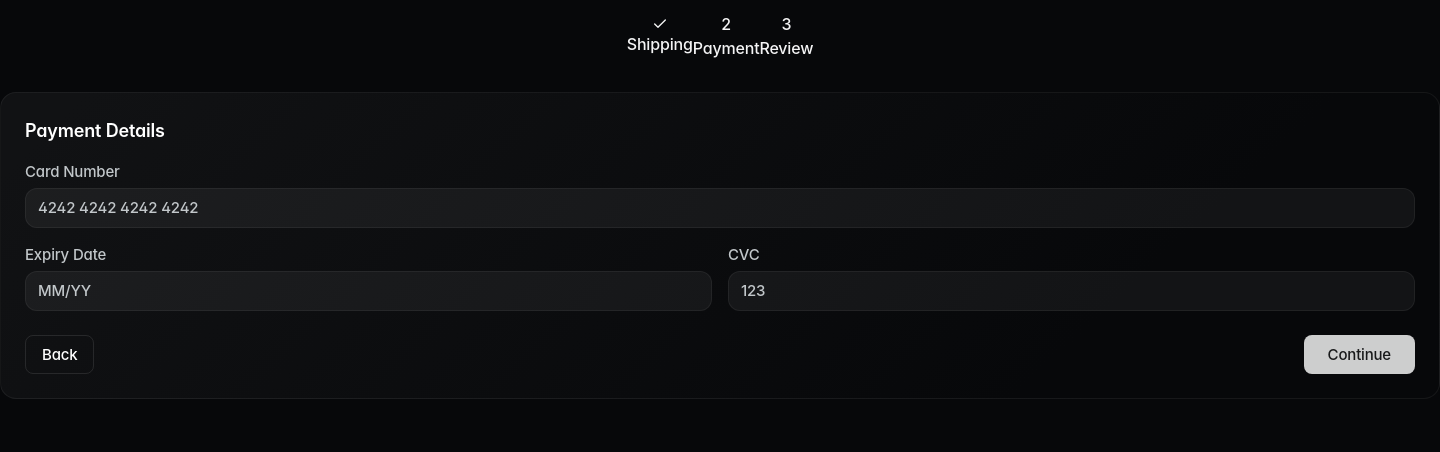
Scenario: CheckoutForm › step 3 - review › displays entered payment data on review
In the field labelled "Card Number": (720, 208) [25,188,1415,228], type "4242424242424242"
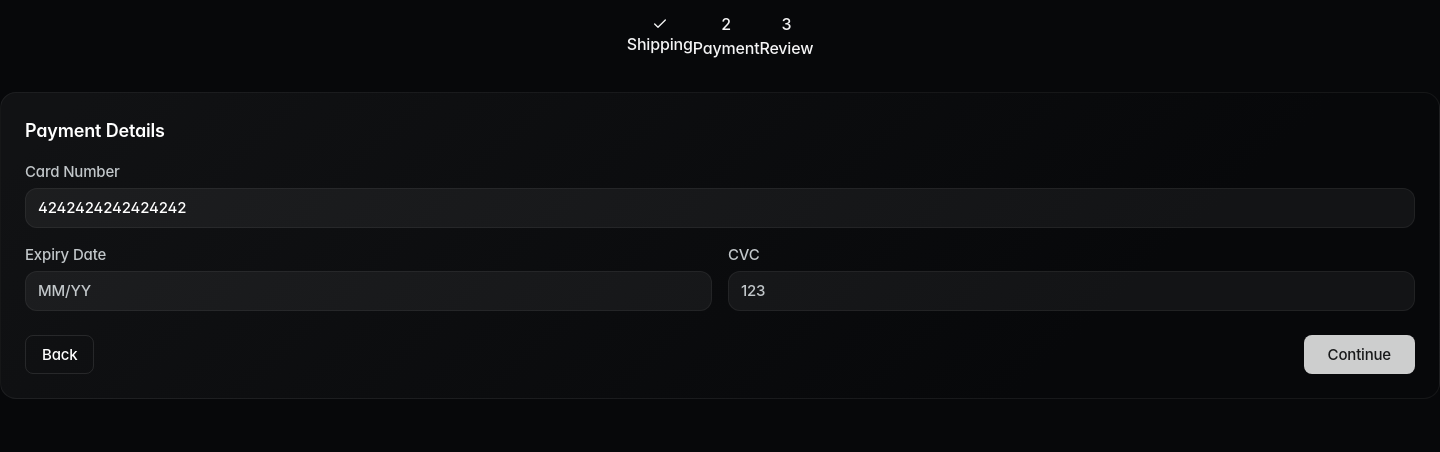
In the field labelled "Expiry Date": (368, 291) [25,271,712,311], type "12/25"
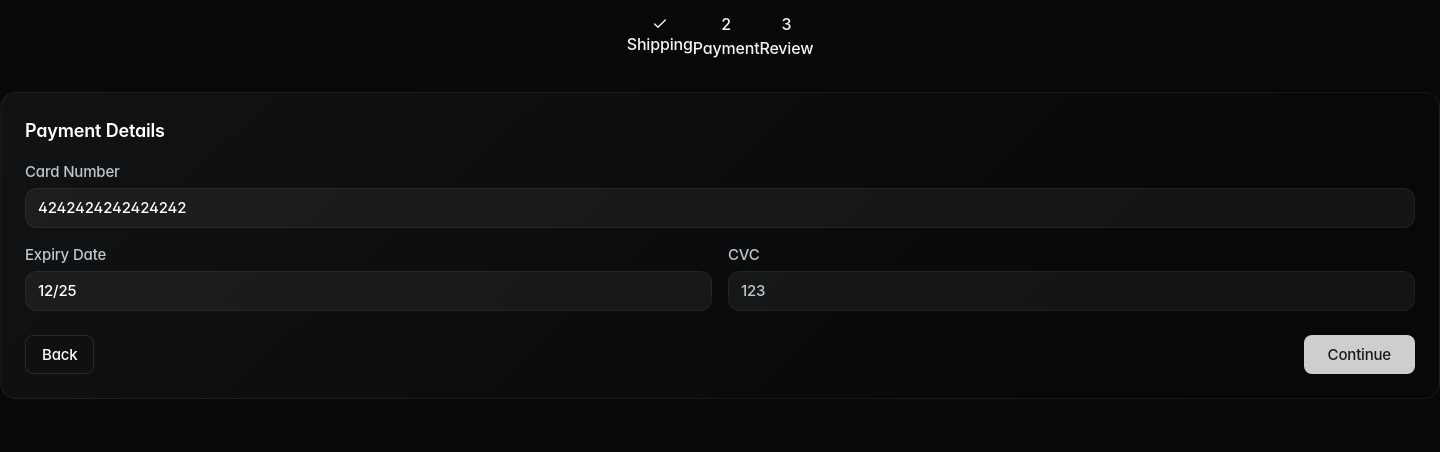
# Navigate to review
Click the button "Continue": (1359, 354) [1304,335,1415,374]
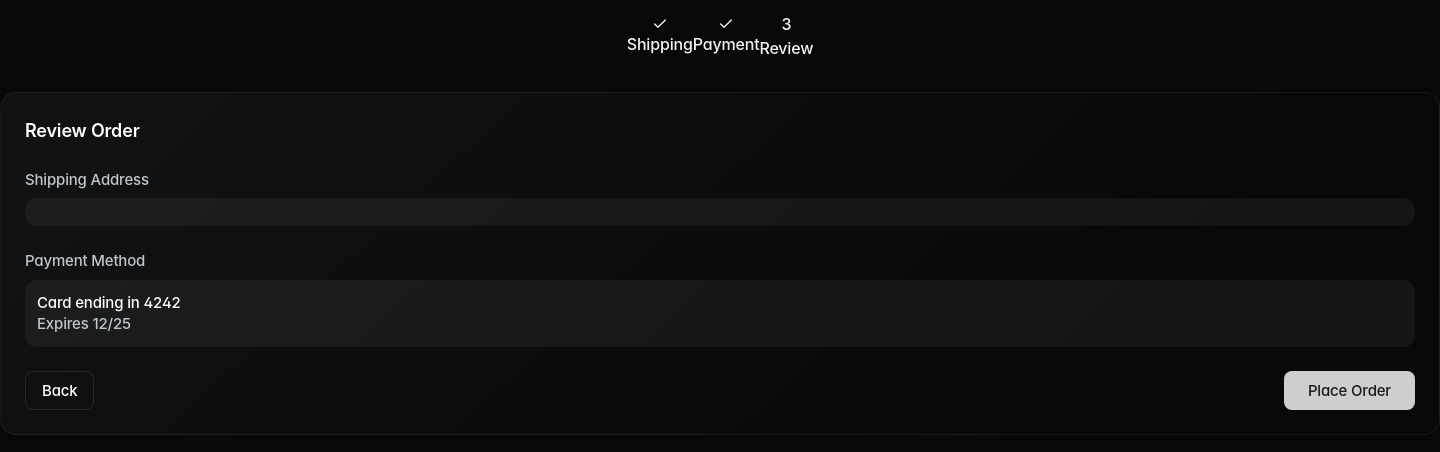
Result: the text "Card ending in 4242" is shown at [37,293,181,312]
Result: the text "Expires 12/25" is shown at [37,314,131,333]
